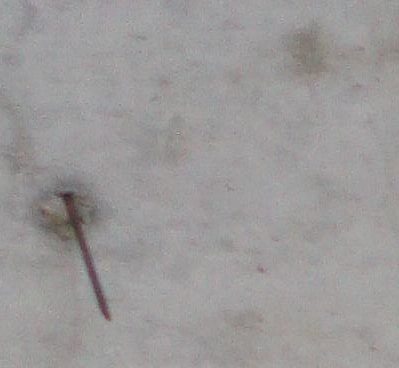Exposed reinforcement: (61, 192, 112, 323)
Spalling: (35, 184, 96, 237)
